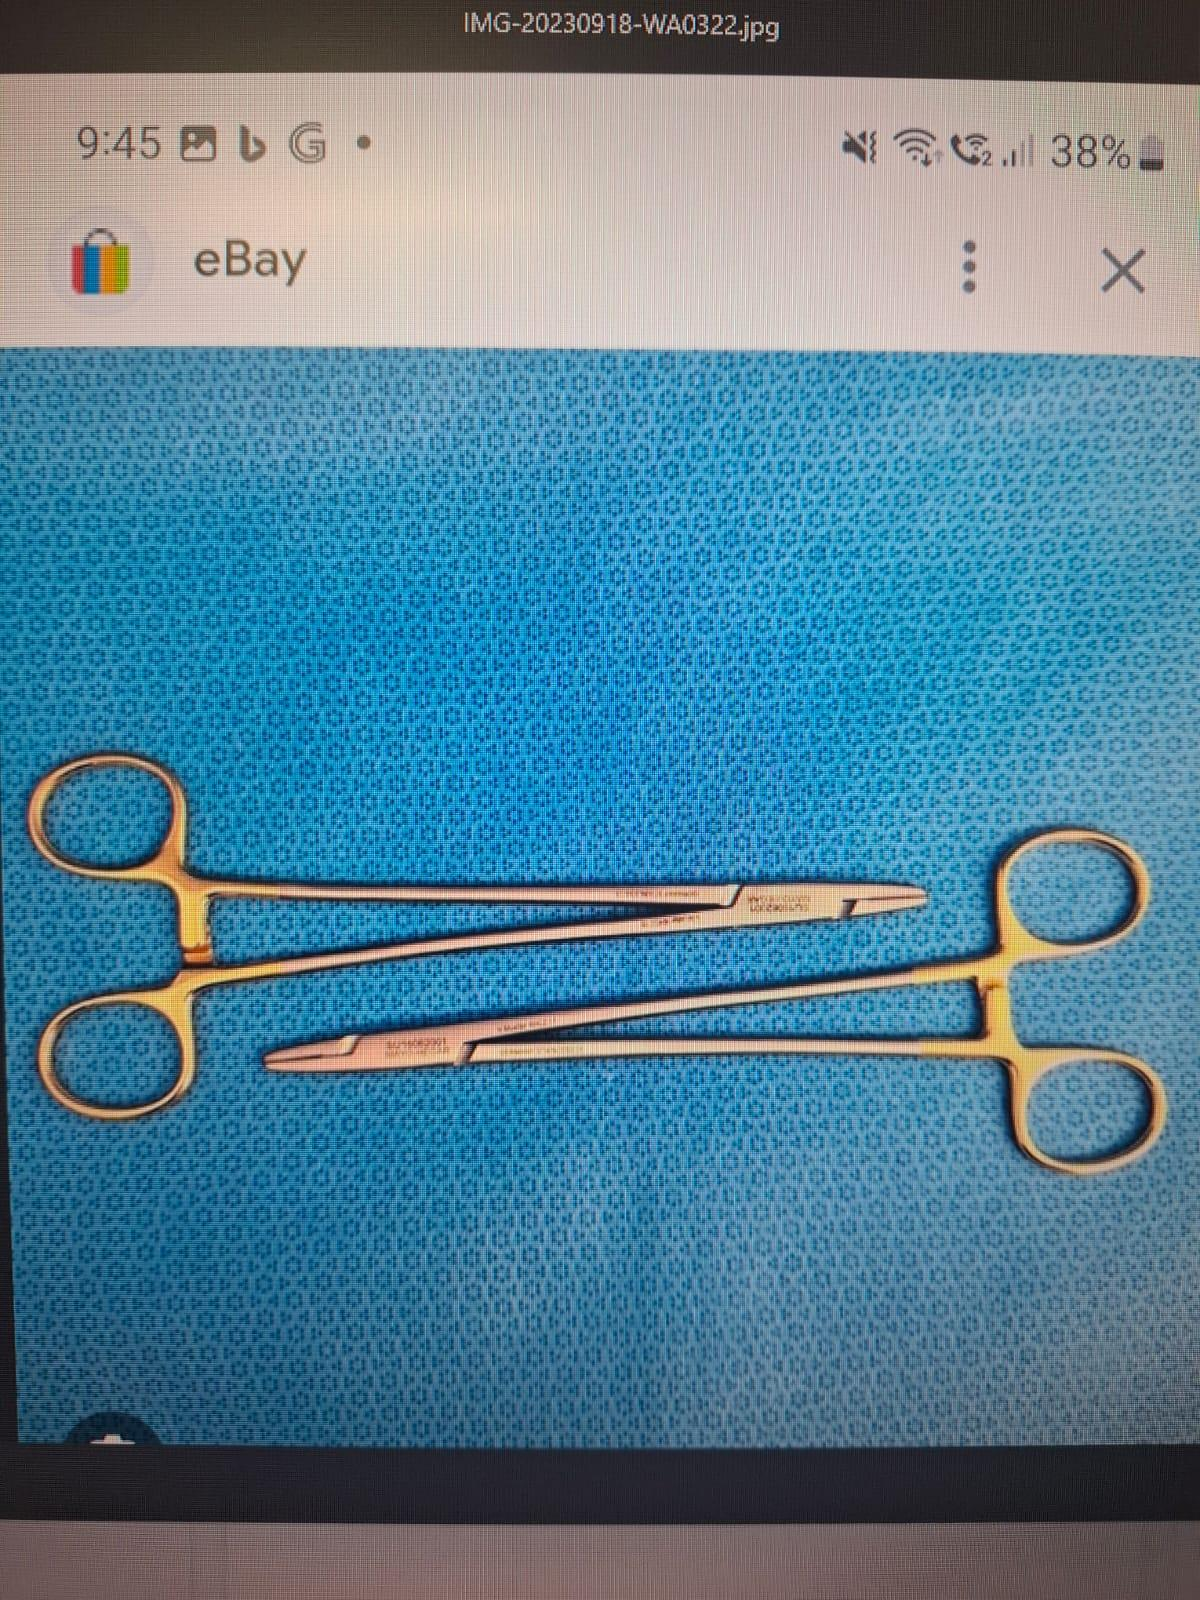Needle Holder: (28, 740, 930, 1138), (250, 818, 1180, 1183)
